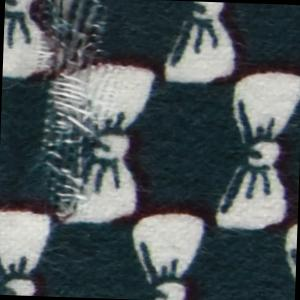Damage: (32, 1, 116, 232)
